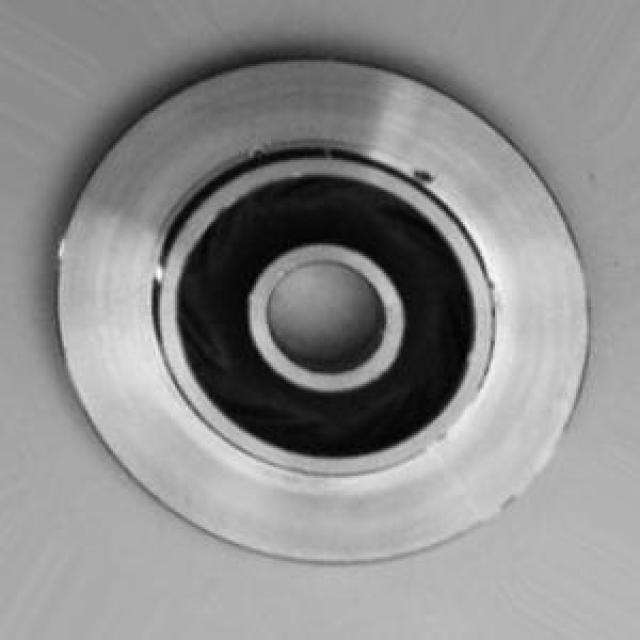Defect: (412, 161, 435, 191)
